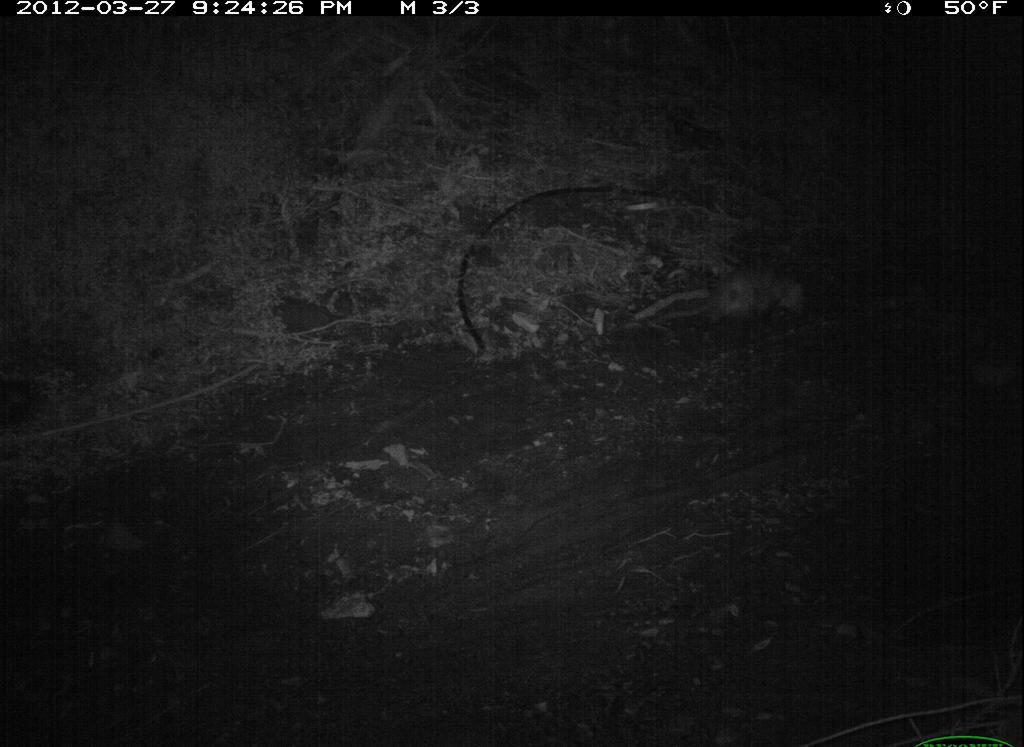opossum: (639, 230, 843, 350)
